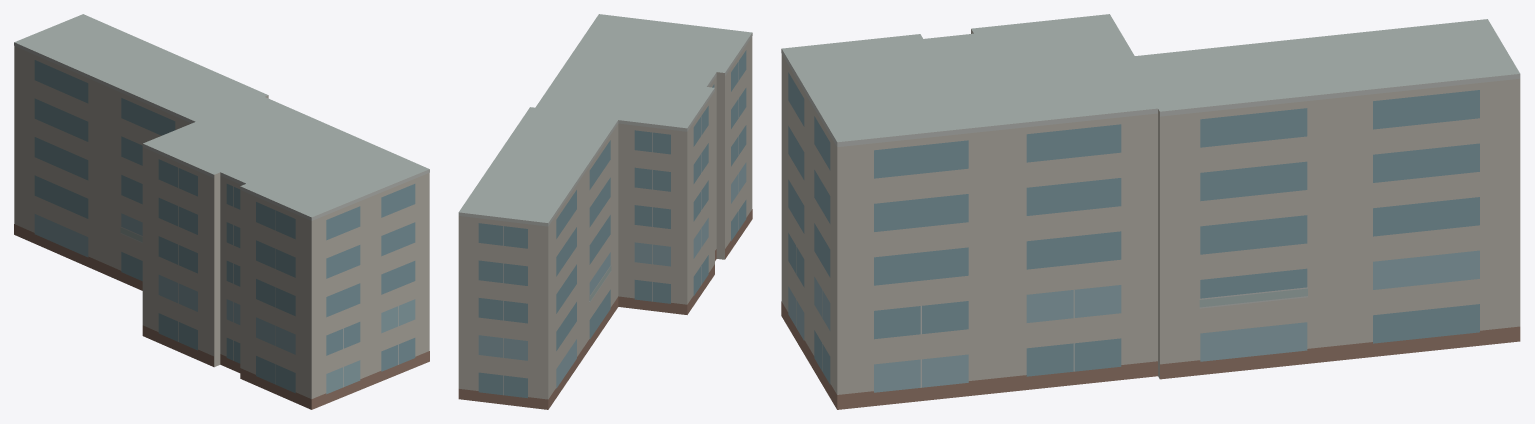
Rendered from survey-upis-32621067.glb.
The picture shows the model from 3 angles, left to right: view 1: azimuth 30°, elevation 25°; view 2: azimuth 150°, elevation 25°; view 3: azimuth 270°, elevation 25°; orthographic projection. The views are drawn at different scales.
Parts seen in each view (by area): view 1: survey-upis-32621067.tmp; view 2: survey-upis-32621067.tmp; view 3: survey-upis-32621067.tmp.
Boxes of the visible parts, <box> form: survey-upis-32621067.tmp: <box>14,14,429,409</box>; survey-upis-32621067.tmp: <box>458,14,752,409</box>; survey-upis-32621067.tmp: <box>781,14,1520,409</box>.
Size of the model in its own units: 13.73 by 13.35 by 33.41.
